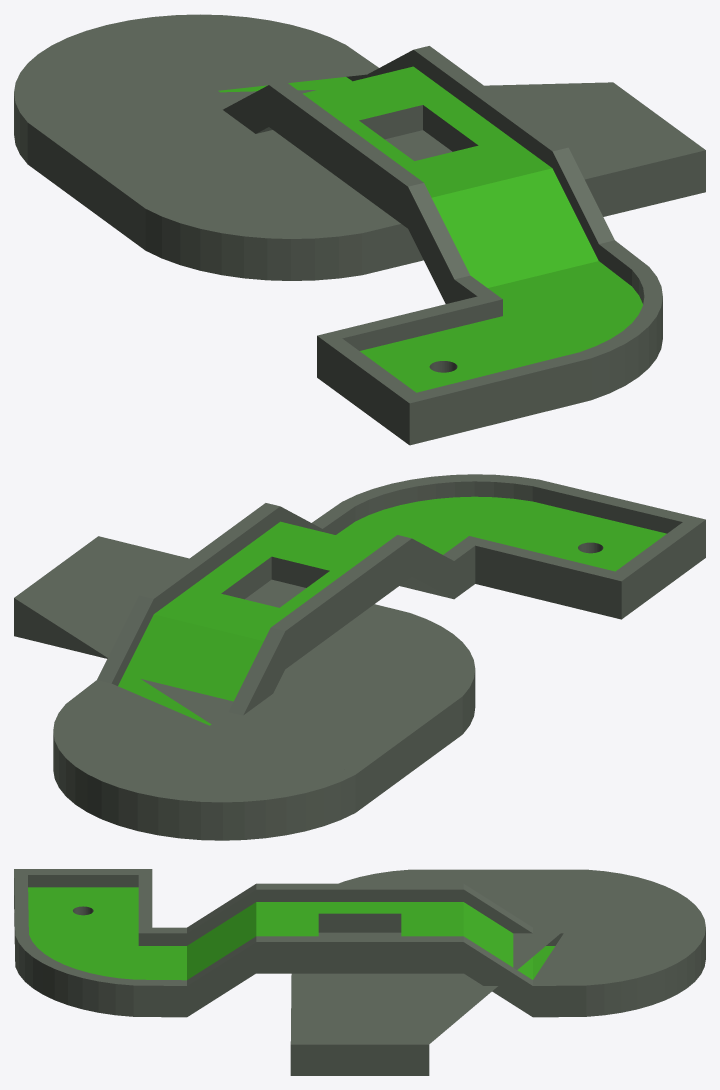
Rendered from C1_Hole7.fbx.
3 renders of one model, top to bottom at view 1: azimuth 30°, elevation 25°; view 2: azimuth 150°, elevation 25°; view 3: azimuth 270°, elevation 25°, orthographic. The views are drawn at different scales.
Parts seen in each view (by area): view 1: Plane.005; view 2: Plane.005; view 3: Plane.005.
Part boxes in pixels (bbox=[...]): Plane.005: bbox=[14, 14, 705, 445]; Plane.005: bbox=[14, 474, 705, 840]; Plane.005: bbox=[14, 869, 705, 1075].
Size of the model in its own units: 600 by 120 by 1000.
